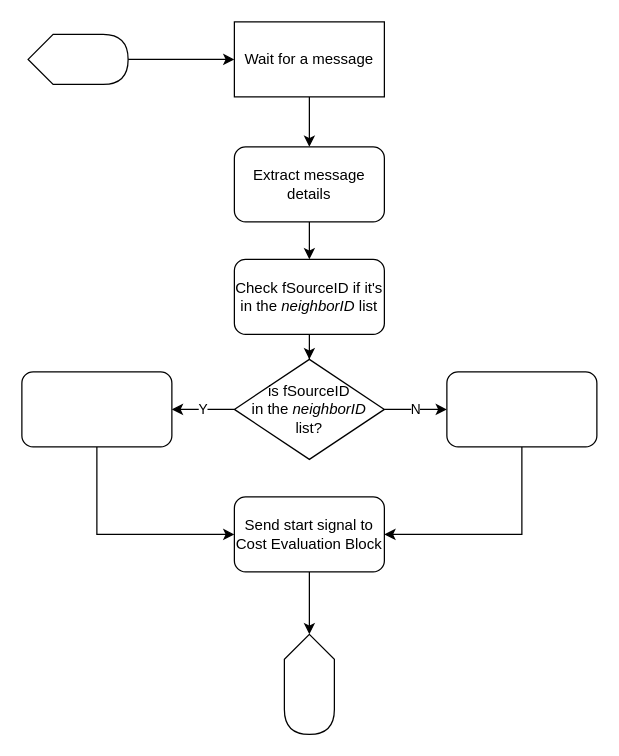
Image size: 619x756. Some labels were removed from this diagram. Here are the shapes that lost their labels. From the top down, the centre of each, then its label:
At [96,409]: "Update information in routing table".
At [521,409]: "Add neighbor to routing table".
